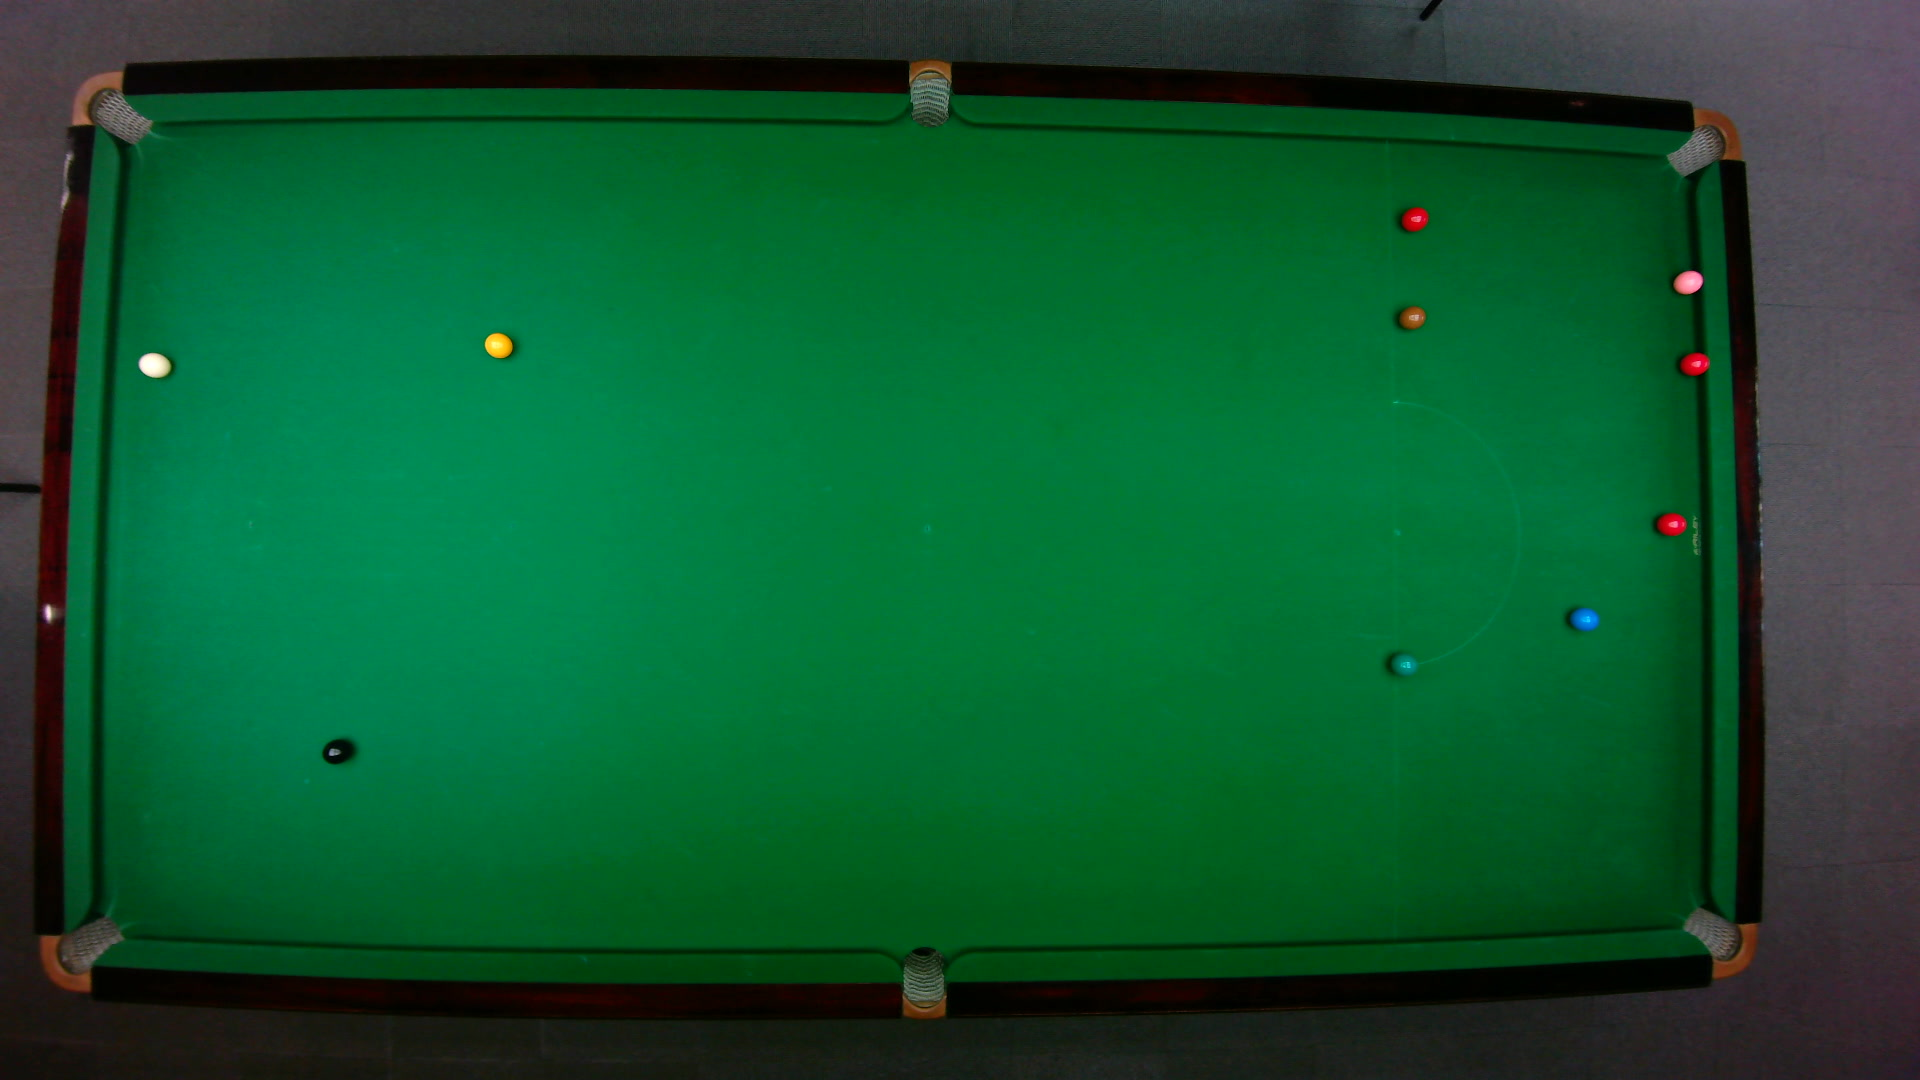bag: (37, 914, 125, 993), (69, 69, 153, 145), (1677, 905, 1756, 978), (1663, 107, 1741, 177), (901, 944, 944, 1021), (909, 57, 949, 128)
black: (320, 737, 352, 765)
blue: (1568, 605, 1600, 632)
brown: (1396, 305, 1427, 328)
green: (1387, 650, 1418, 676)
pink: (1671, 266, 1704, 295)
red: (1677, 349, 1710, 376), (1654, 510, 1687, 535), (1399, 204, 1429, 231)
white: (136, 349, 171, 378)
yellow: (483, 330, 513, 359)
zone: (1390, 400, 1520, 667)
